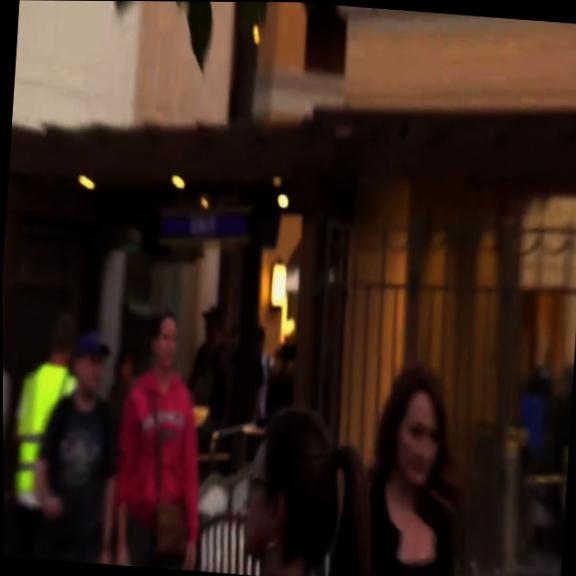safety_vest: (12, 360, 81, 499)
